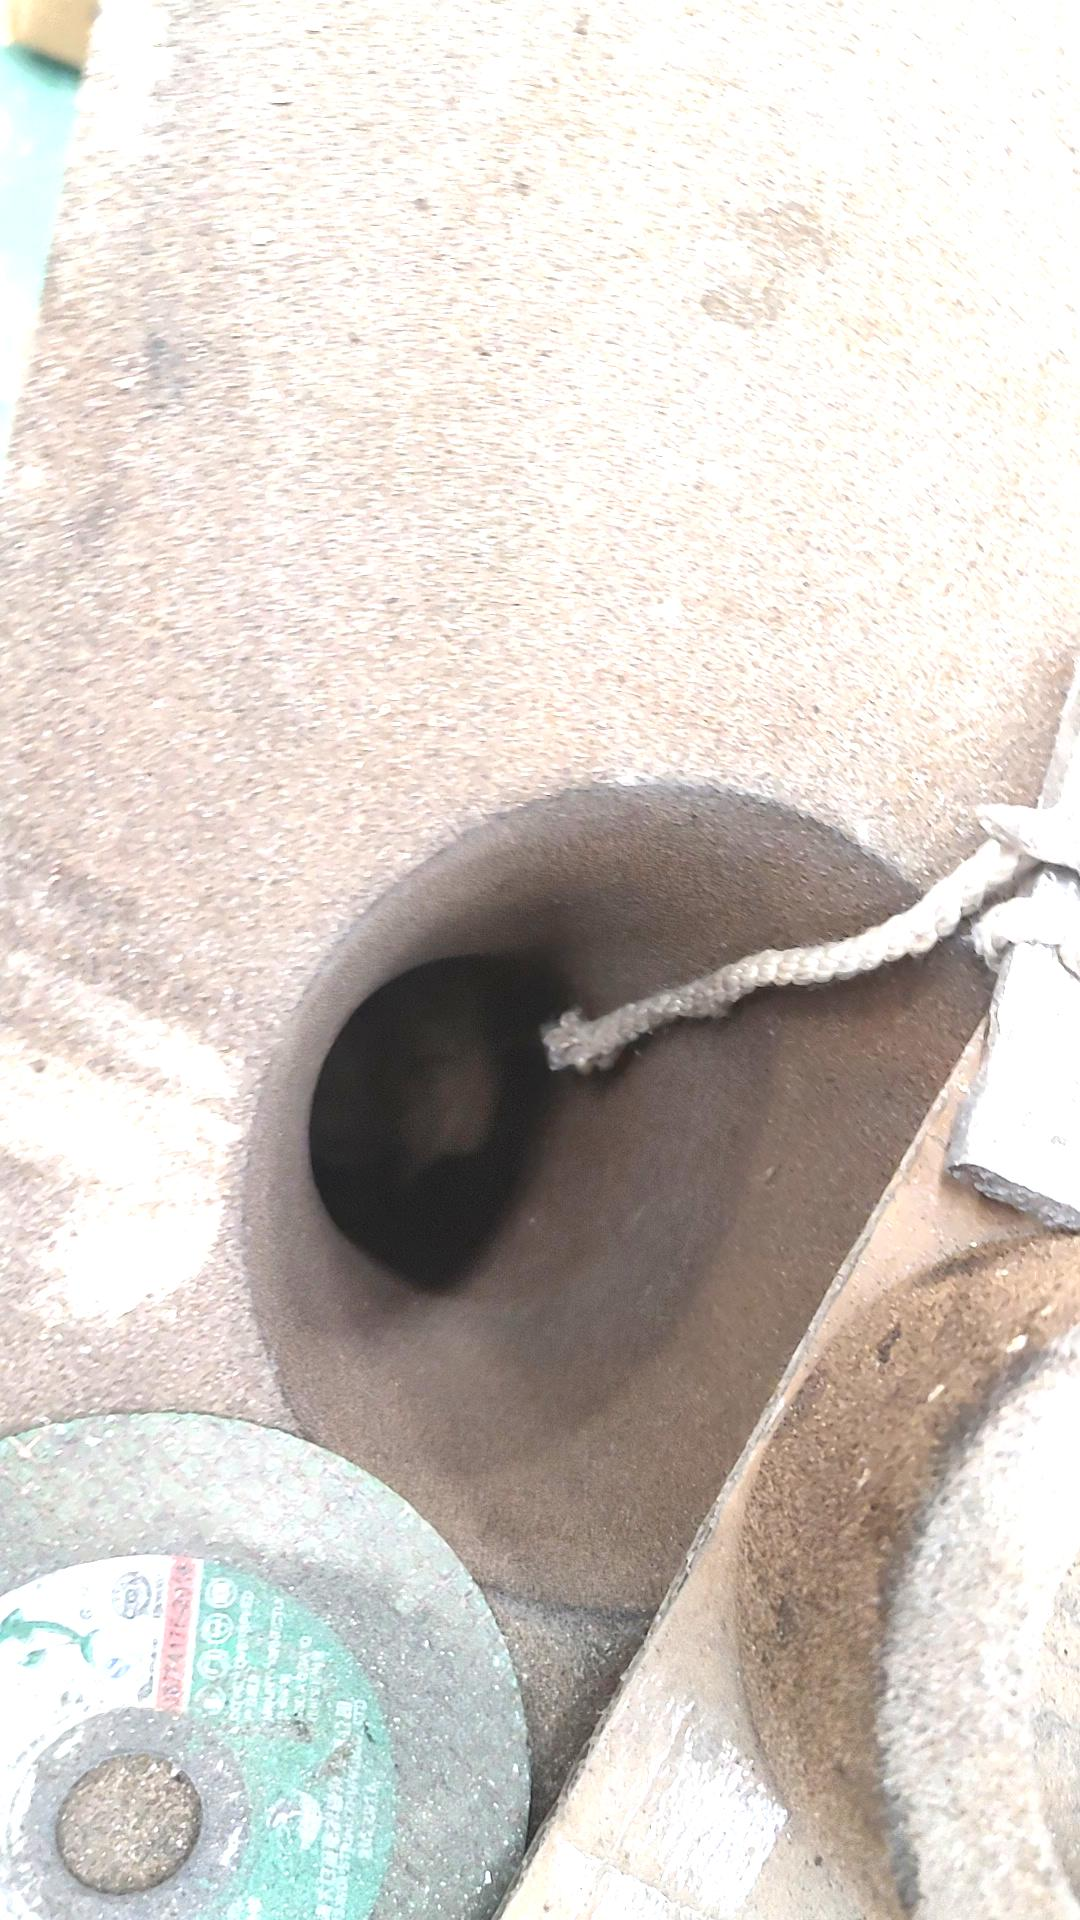pouring hole: (233, 778, 1004, 1625)
